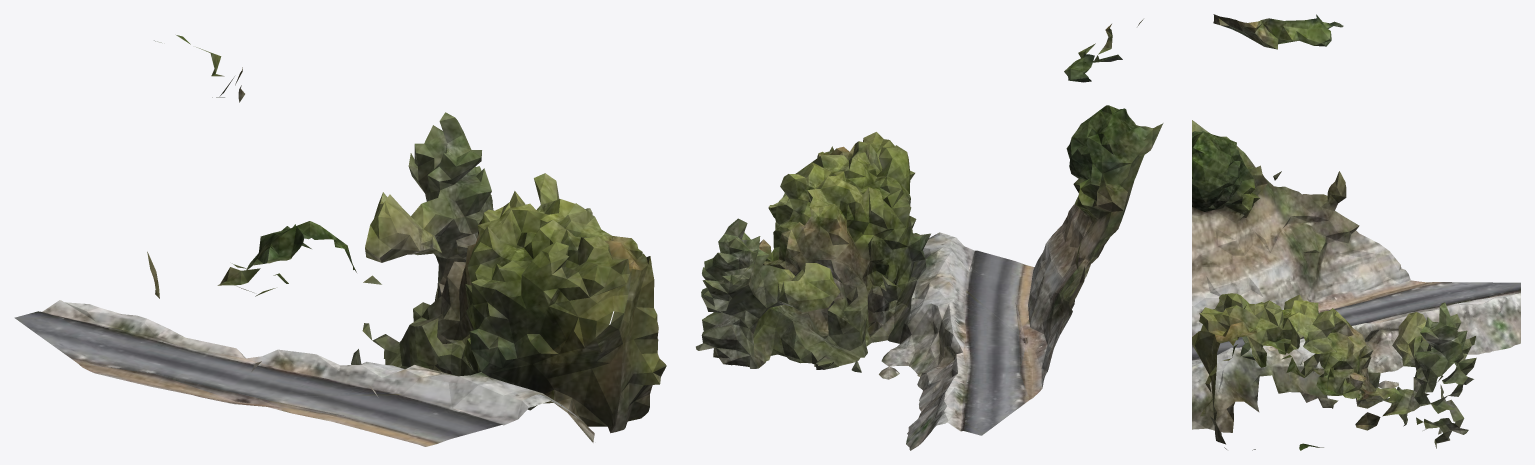
3 views of the same model, side by side, from view 1: azimuth 30°, elevation 25°; view 2: azimuth 150°, elevation 25°; view 3: azimuth 270°, elevation 25° (orthographic). The views are drawn at different scales.
Bounding box in the file's own units: 23.6 × 23.6 × 23.6.
4 materials, 4 textured.
